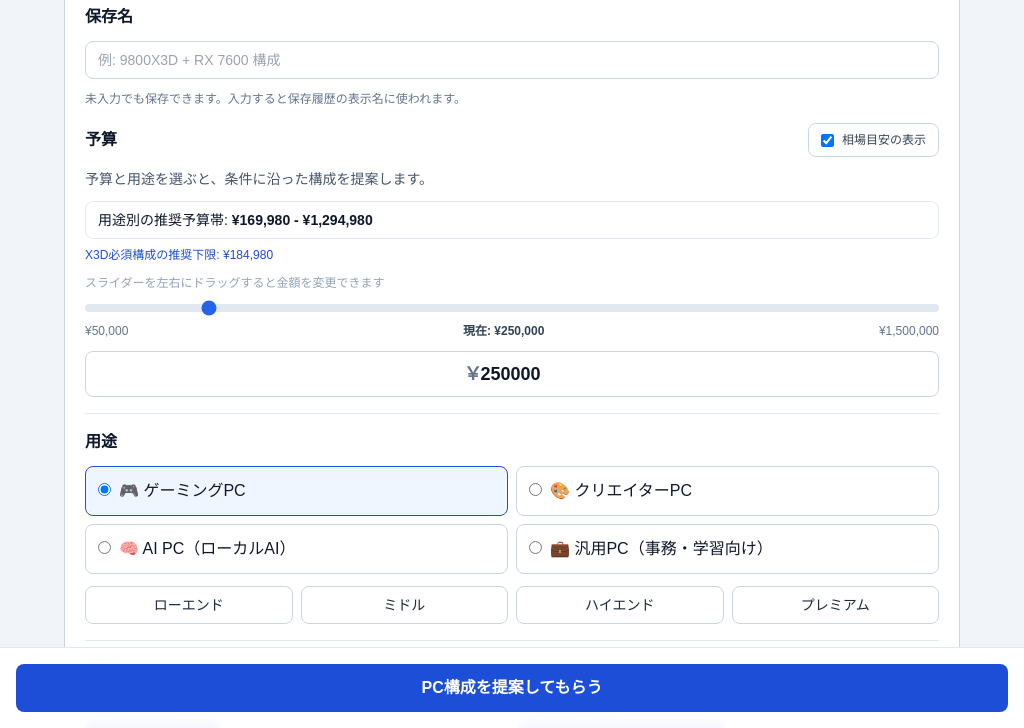
Test: ConfigForm presets › raises the creator spec premium preset to a 5090-capable budget
The width and height of the screenshot is (1024, 728).
Step 1. Click the radio button labelled "🎨 クリエイターPC" → (536, 490), box x1=529 y1=483 x2=542 y2=496
(page scrolled)
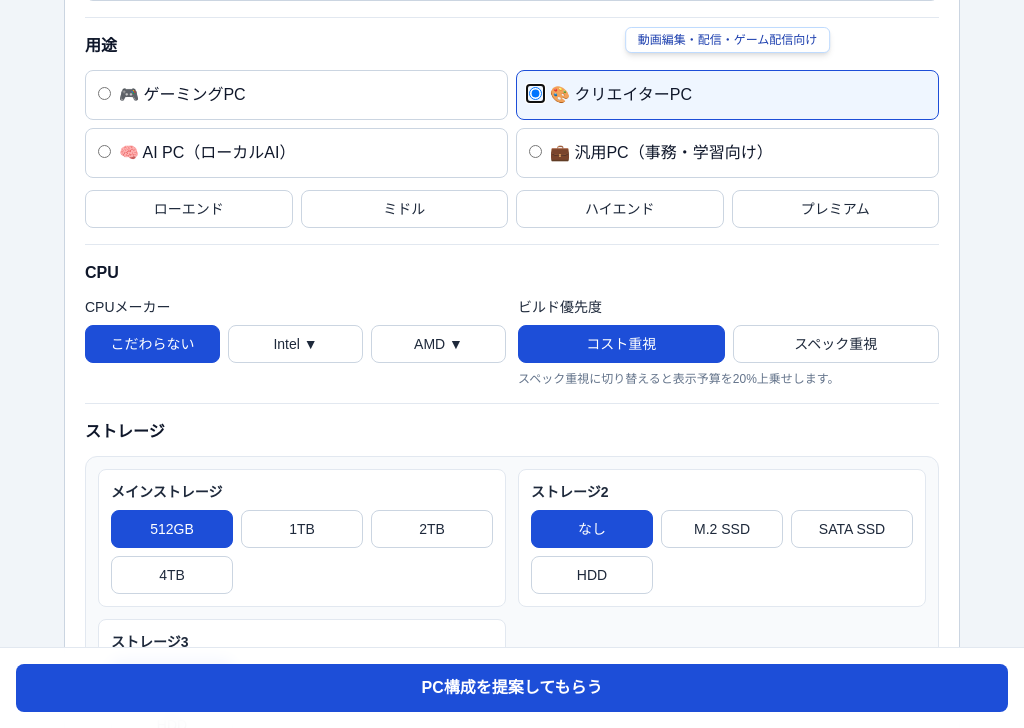
Step 2. Click the button "スペック重視" → (836, 344), box x1=732 y1=325 x2=939 y2=363
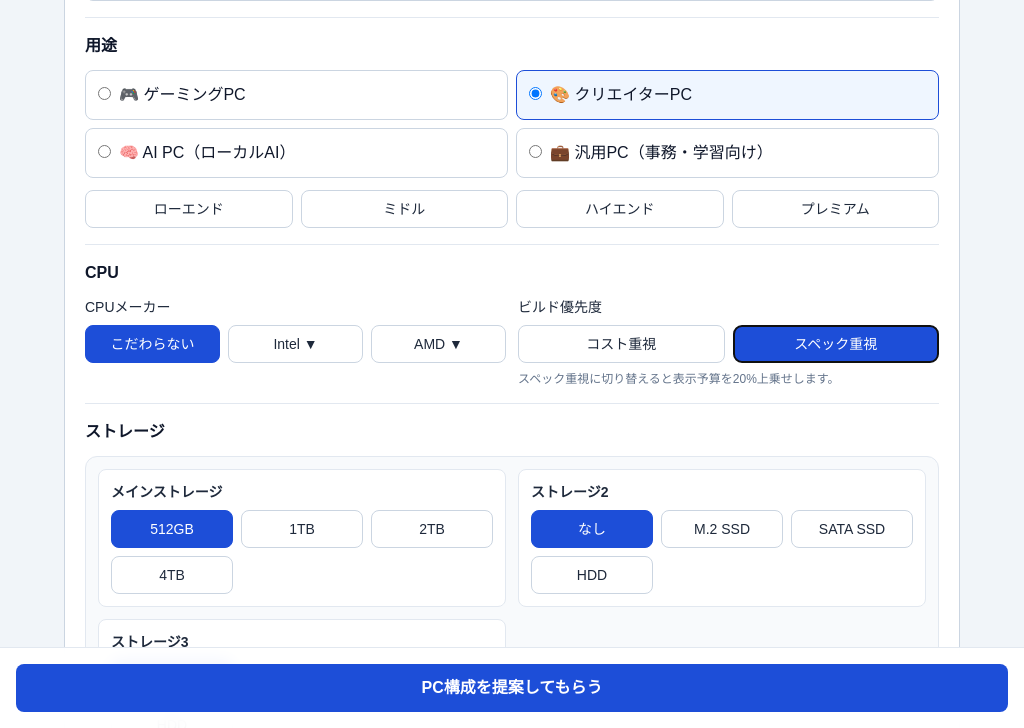
Step 3. Click the button "プレミアム" → (835, 209), box x1=732 y1=190 x2=939 y2=228
(page scrolled)
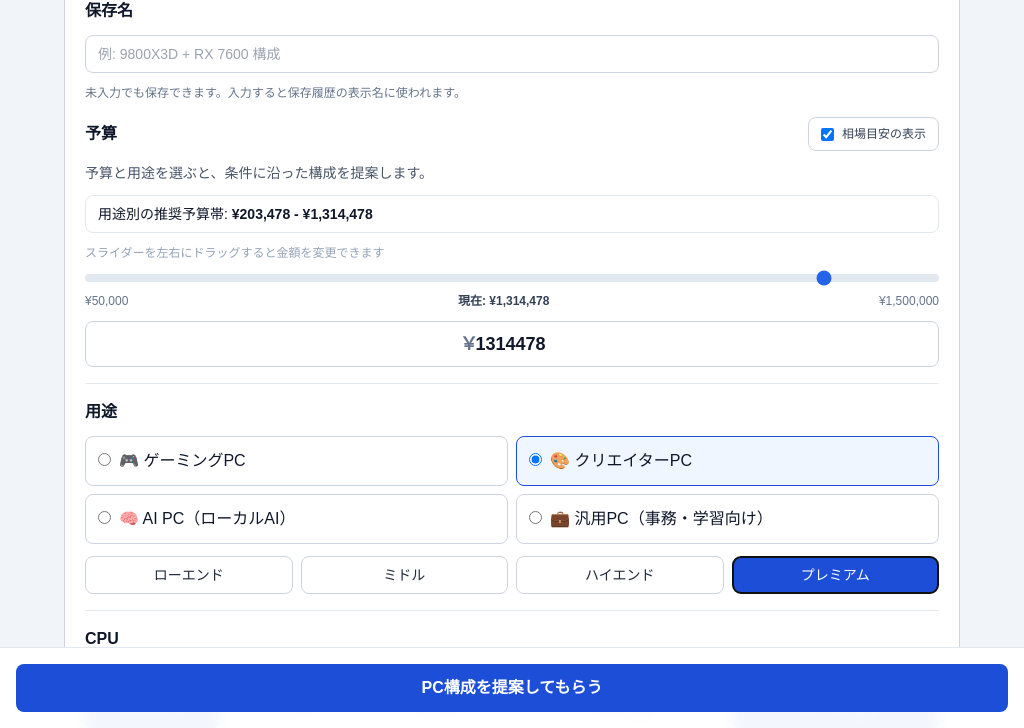
Now the number field holds "1314478", box x1=85 y1=321 x2=939 y2=367
